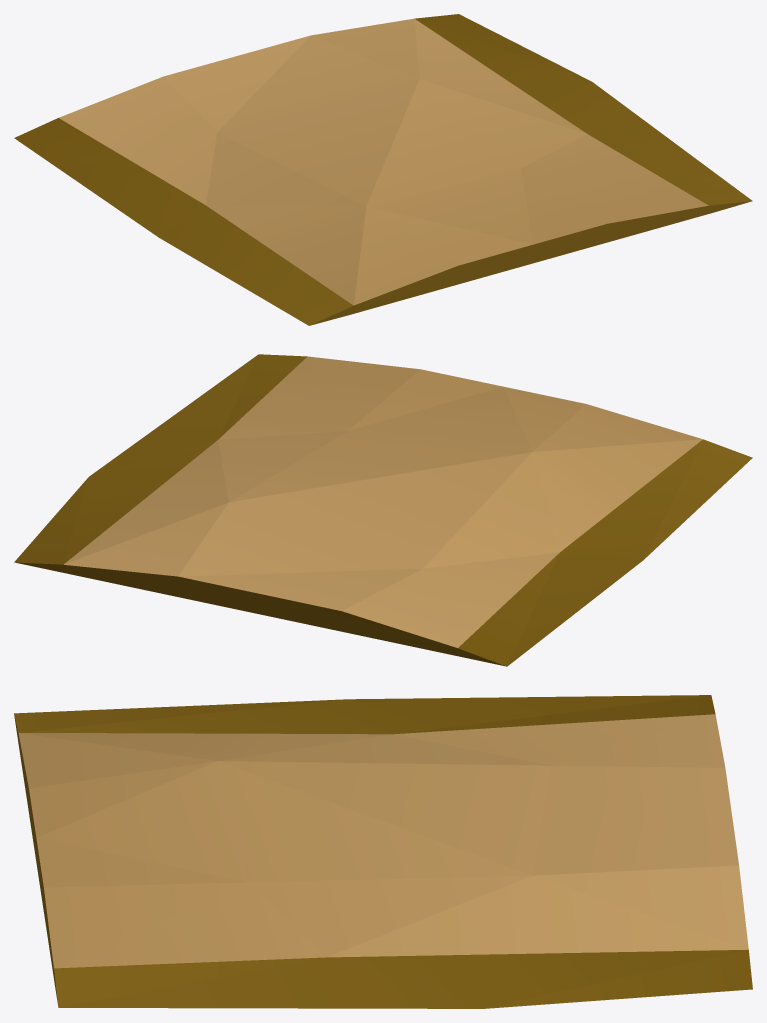
File: Road_Straight_S.fbx
3 views of the same model, one above another, from view 1: azimuth 30°, elevation 25°; view 2: azimuth 150°, elevation 25°; view 3: azimuth 270°, elevation 25° (orthographic). The views are drawn at different scales.
Parts seen in each view (by area): view 1: Road_Straight_S; view 2: Road_Straight_S; view 3: Road_Straight_S.
Part boxes in pixels (x1,y1,x2,y2): Road_Straight_S: (14, 14, 752, 325); Road_Straight_S: (14, 354, 752, 666); Road_Straight_S: (14, 695, 752, 1008).
Size of the model in its own units: 3.19 by 0.1865 by 3.18.
1 material, 1 textured.
